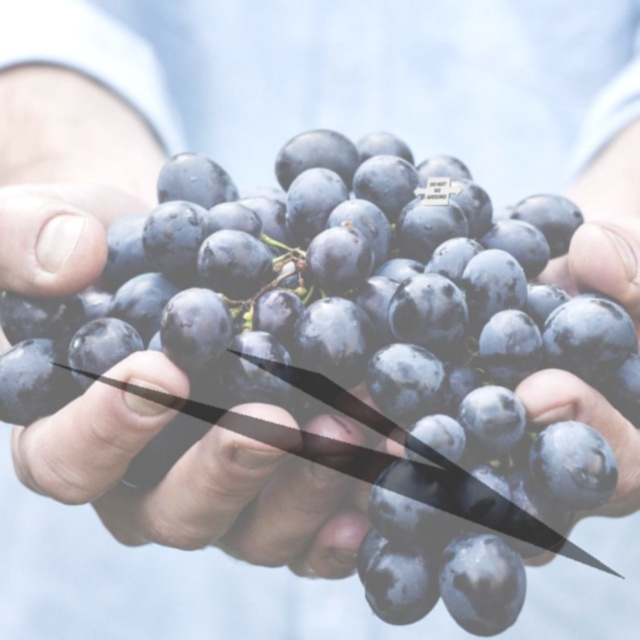DO_NOT_GO_AROUND: (412, 176, 463, 206)
